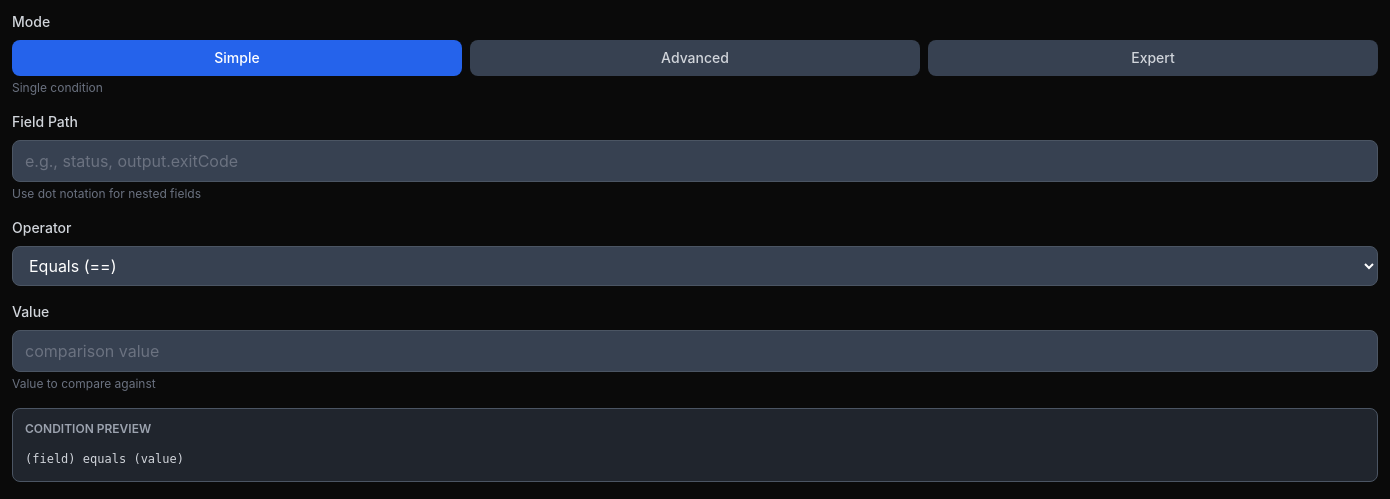
Scenario: ConditionalNodeSettings › mode transitions › switches from simple to advanced and back
Click the button "Advanced" at (695, 58), box [470,40,920,76]
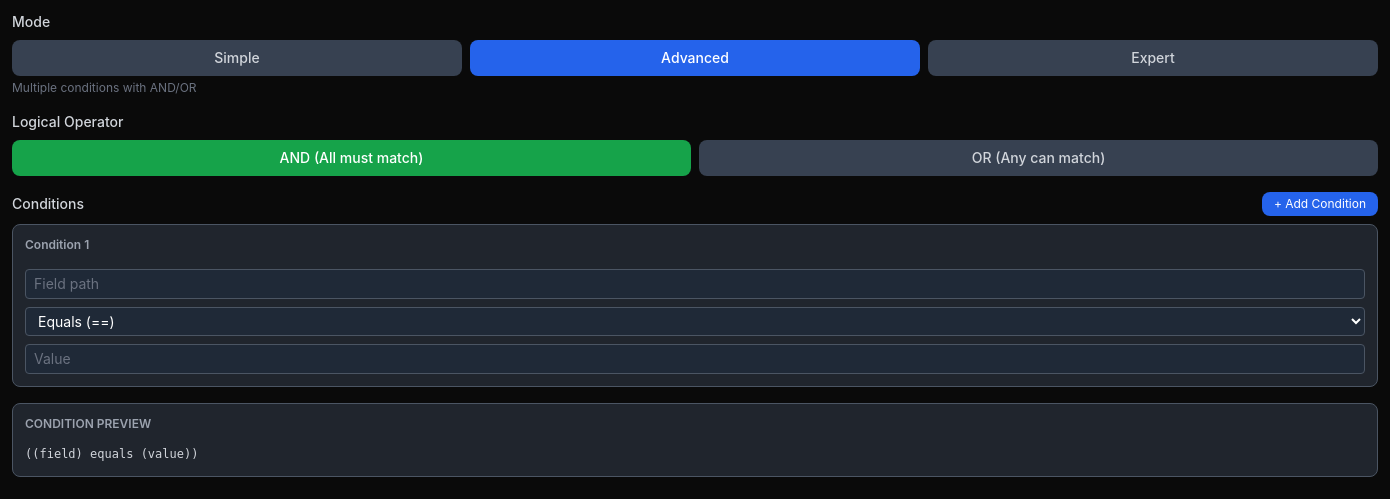
Expected: the button "+ Add Condition" is shown, [1262,192,1378,216]
Click the button "Simple" at (237, 58), box [12,40,462,76]
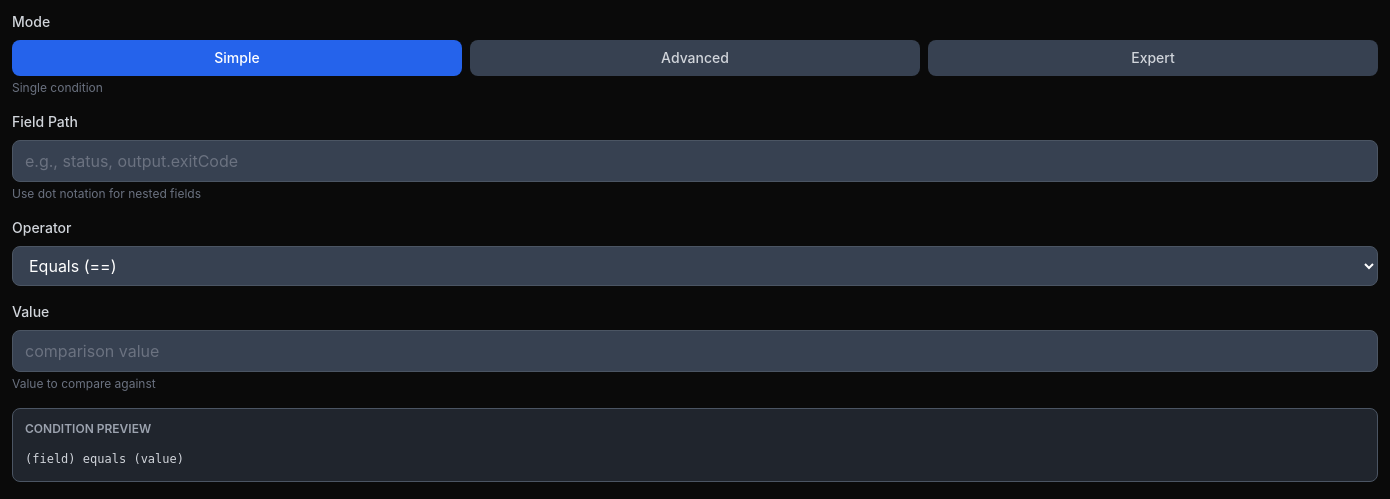
Expected: the text "Field Path" is shown, [12,113,78,130]
